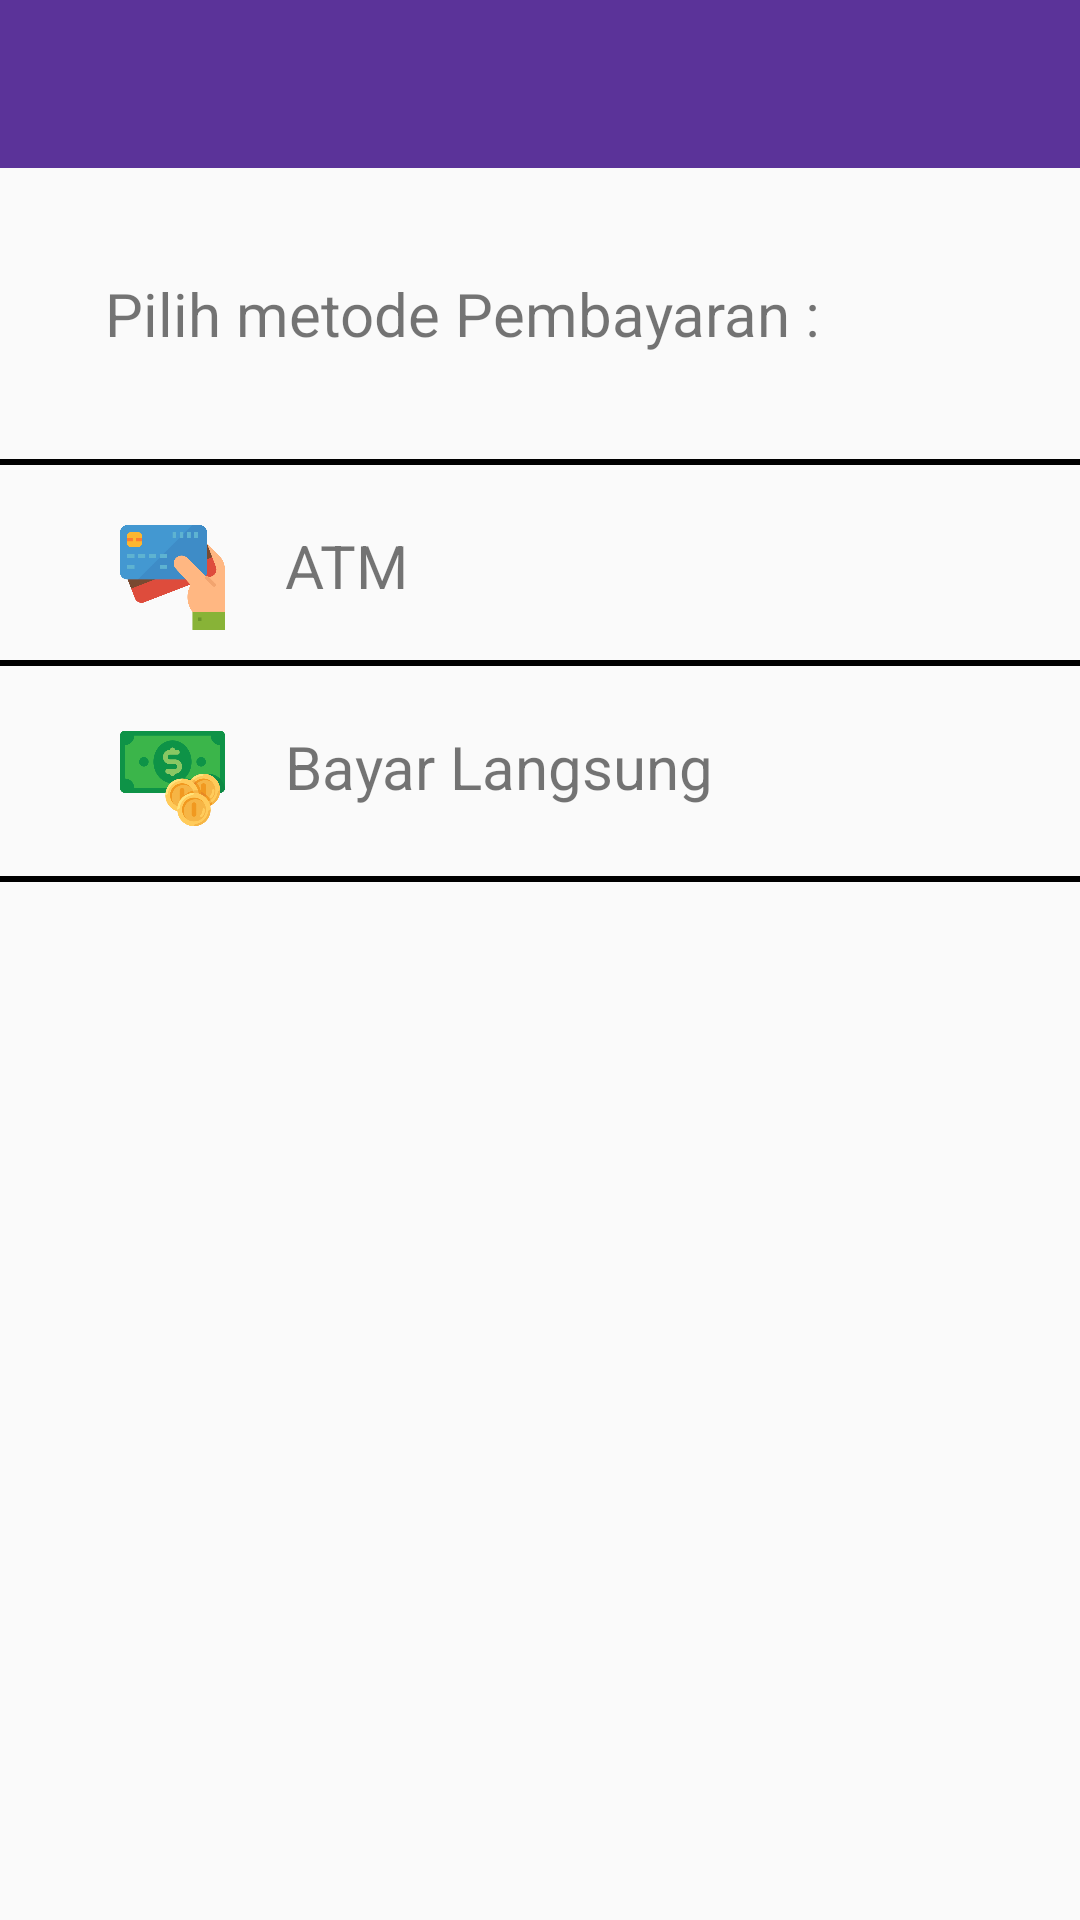

Named icons in this screenshot (1080*1920) and their bounding boxes, (x1, y1, x2, y2):
card: (120, 525, 225, 630)
cashe: (120, 731, 225, 826)
